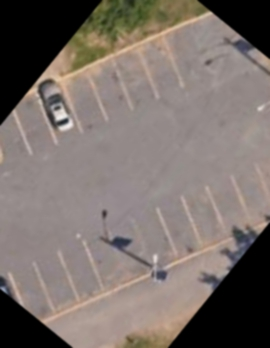parkingspot: (0, 149, 270, 325), (0, 28, 190, 175)
